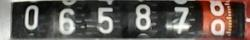digits: (58, 8, 76, 34), (174, 6, 190, 35), (96, 7, 113, 33), (135, 3, 151, 30), (24, 4, 38, 30), (208, 0, 224, 15)
